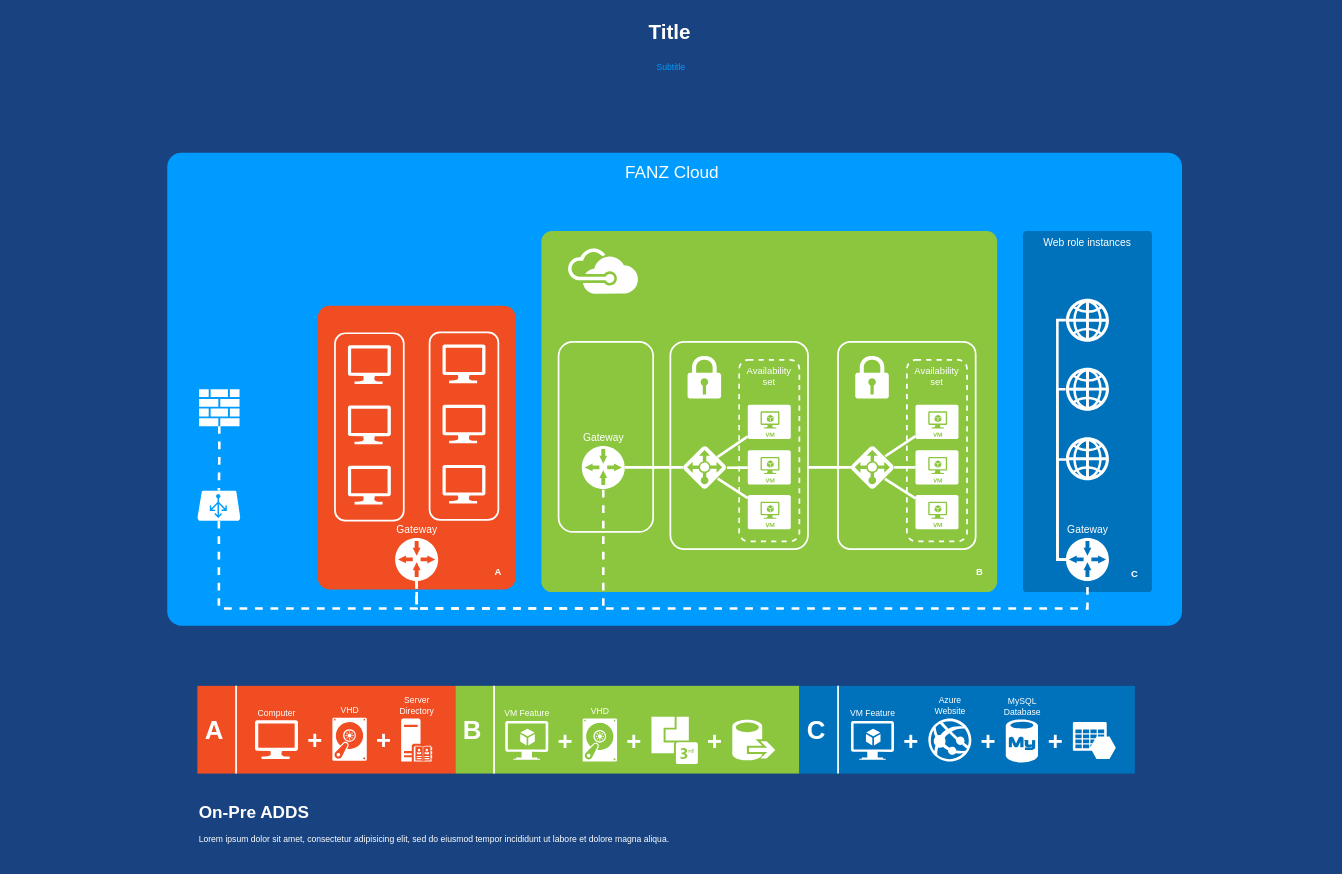
The diagram is 1342 pixels wide and 874 high, and some of its shapes have lost their labels. The shapes that lost their labels are listed below. From the top down, each one's box as (x1, y1, x2, y2) in pixels, then its label:
(567, 248, 638, 293): Azure Vnet
(199, 389, 239, 426): Firewall
(317, 305, 515, 589): On-premises networks
(197, 490, 240, 520): Windows Azure Load Balancer
(651, 716, 697, 764): 3rd Party Integration
(732, 719, 775, 760): Data Migration Wizard
(1072, 722, 1115, 759): Azure Storage
